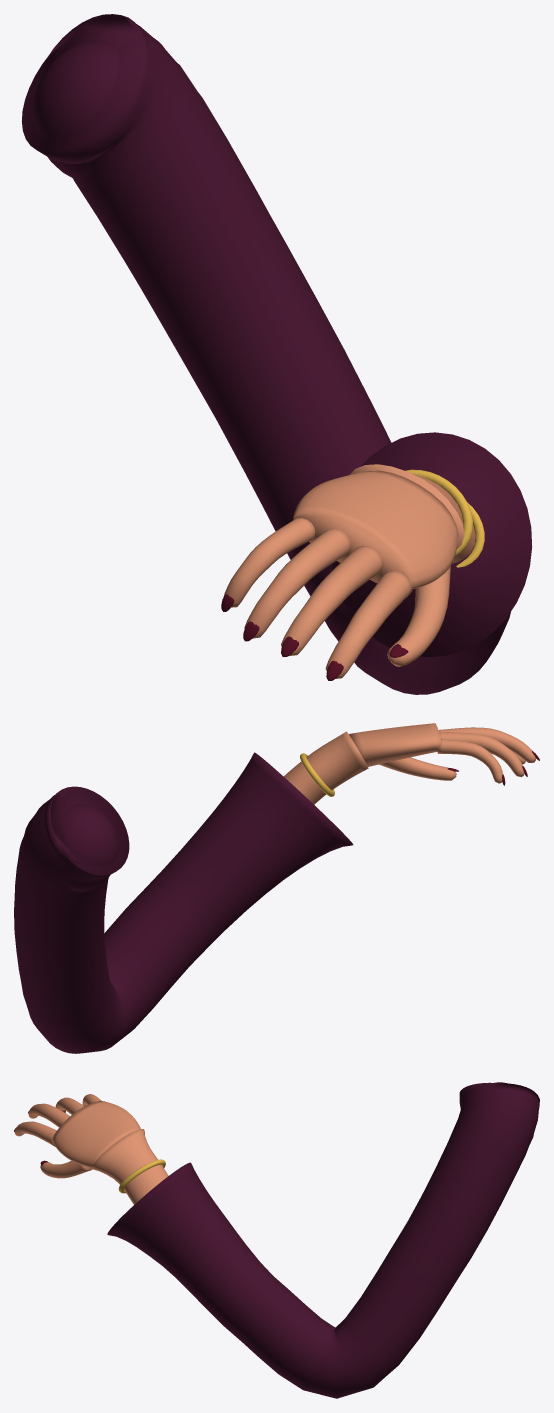
Rendered from char_hr_veronika_arm_l.glb.
3 renders of one model, top to bottom at view 1: azimuth 30°, elevation 25°; view 2: azimuth 150°, elevation 25°; view 3: azimuth 270°, elevation 25°, orthographic. The views are drawn at different scales.
Parts seen in each view (by area): view 1: char_hr_veronika_arm_l; view 2: char_hr_veronika_arm_l; view 3: char_hr_veronika_arm_l.
Part boxes in pixels (x1,y1,x2,y2): char_hr_veronika_arm_l: (21, 14, 532, 694); char_hr_veronika_arm_l: (14, 723, 539, 1053); char_hr_veronika_arm_l: (14, 1082, 539, 1398).
Bounding box in the file's own units: 0.2221 × 0.2406 × 0.4027.
Materials: 5 (1 with a texture image).
